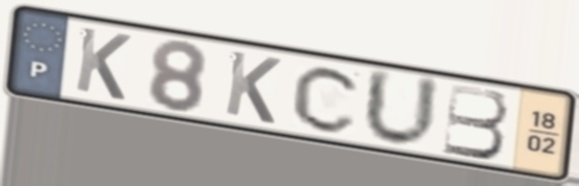8: (146, 37, 210, 115)
B: (440, 81, 511, 162)
C: (289, 63, 366, 136)
K: (71, 23, 134, 104), (221, 47, 284, 127)
U: (360, 64, 444, 151)
